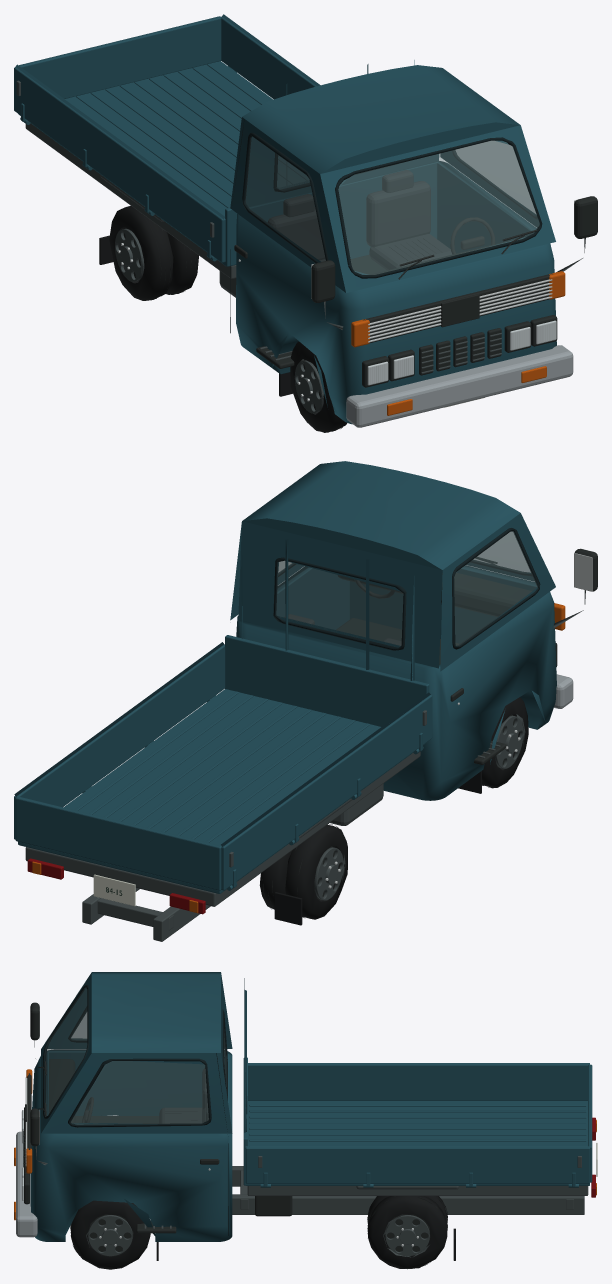
The model's file is light-truck-lod1.glb.
The picture shows the model from 3 angles, top to bottom: view 1: azimuth 30°, elevation 25°; view 2: azimuth 150°, elevation 25°; view 3: azimuth 270°, elevation 25°; orthographic projection. The views are drawn at different scales.
Visible parts, largest first — view 1: cab pressed lower shell, windshield glass, black pull handle, seat cushion, commercial tire, steel front bumper, anti slip step bar, windshield rubber surround, door lock, square halogen, rear indicator, floor; view 2: cab pressed lower shell, windshield glass, anti slip step bar, commercial tire, floor, windshield rubber surround, black pull handle, registration plate, rear stop lamp, door lock; view 3: cab pressed lower shell, anti slip step bar, windshield glass, commercial tire, black pull handle, windshield rubber surround, floor, steel front bumper, seat cushion.
Part boxes in pixels (x1,y1,x2,y2): cab pressed lower shell: [14, 14, 556, 424]; windshield glass: [245, 136, 539, 274]; black pull handle: [123, 196, 597, 432]; seat cushion: [268, 170, 451, 270]; commercial tire: [99, 205, 347, 432]; steel front bumper: [346, 345, 573, 427]; anti slip step bar: [16, 80, 585, 413]; windshield rubber surround: [230, 119, 542, 333]; door lock: [117, 200, 576, 401]; square halogen: [367, 320, 556, 385]; rear indicator: [351, 271, 565, 415]; floor: [350, 237, 522, 274]; cab pressed lower shell: [14, 461, 556, 893]; windshield glass: [276, 531, 537, 646]; anti slip step bar: [25, 590, 585, 941]; commercial tire: [259, 697, 528, 925]; floor: [336, 572, 531, 664]; windshield rubber surround: [273, 528, 540, 650]; black pull handle: [262, 548, 597, 917]; registration plate: [93, 874, 135, 906]; rear stop lamp: [27, 858, 205, 914]; door lock: [325, 553, 592, 888]; cab pressed lower shell: [30, 972, 592, 1241]; anti slip step bar: [23, 1040, 588, 1257]; windshield glass: [45, 987, 226, 1124]; commercial tire: [71, 1196, 455, 1269]; black pull handle: [24, 1002, 447, 1269]; windshield rubber surround: [43, 985, 228, 1235]; floor: [49, 1059, 159, 1123]; steel front bumper: [16, 1131, 37, 1237]; seat cushion: [159, 1068, 208, 1123].
Size of the model in its own units: 2.25 by 2.1 by 4.83.
